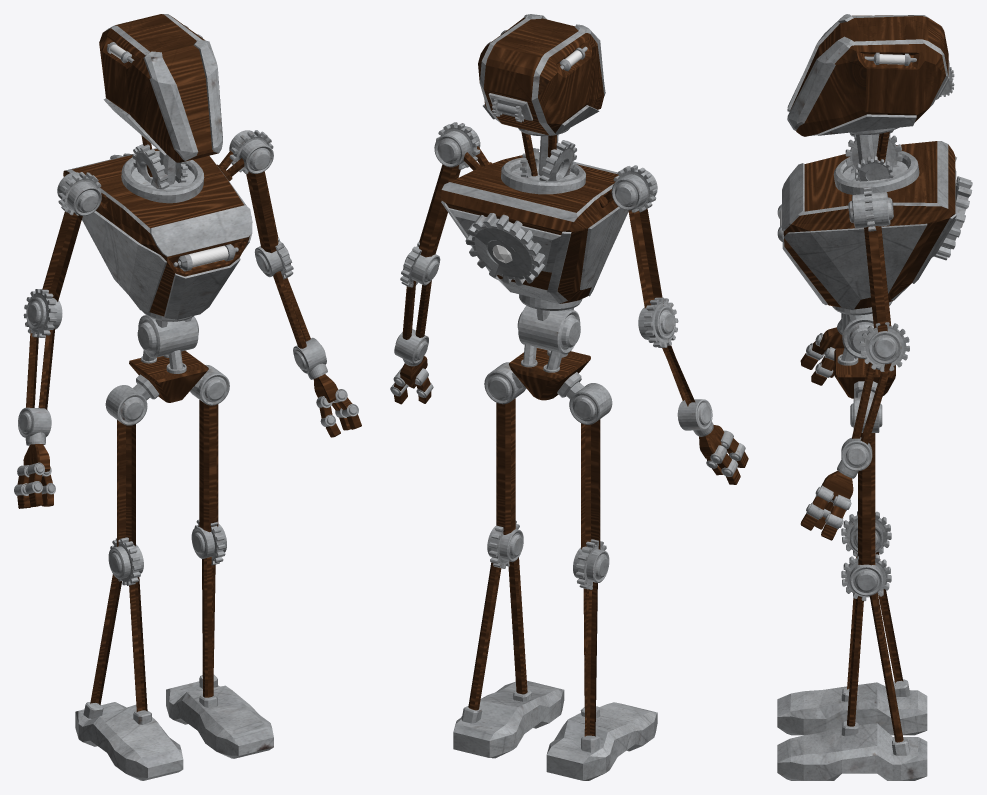
The model's file is Enemy_Range.fbx.
The picture shows the model from 3 angles, left to right: view 1: azimuth 30°, elevation 25°; view 2: azimuth 150°, elevation 25°; view 3: azimuth 270°, elevation 25°; orthographic projection. The views are drawn at different scales.
Parts seen in each view (by area): view 1: Cube.035; view 2: Cube.035; view 3: Cube.035.
Boxes of the visible parts, <box> form: Cube.035: <box>14,14,361,780</box>; Cube.035: <box>390,14,748,780</box>; Cube.035: <box>777,14,972,780</box>.
Bounding box in the file's own units: 531 × 1065 × 261.
Materials: 3 (2 with a texture image).
